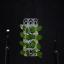leaf: (30, 26, 36, 33), (36, 52, 43, 58), (31, 40, 36, 48), (20, 24, 26, 30), (26, 34, 32, 40), (36, 26, 43, 31), (36, 35, 43, 40), (36, 43, 41, 50), (20, 32, 25, 38), (20, 40, 25, 46), (20, 50, 26, 55), (26, 27, 30, 34), (31, 34, 36, 39), (25, 43, 31, 47), (26, 50, 30, 56), (32, 50, 36, 54)
